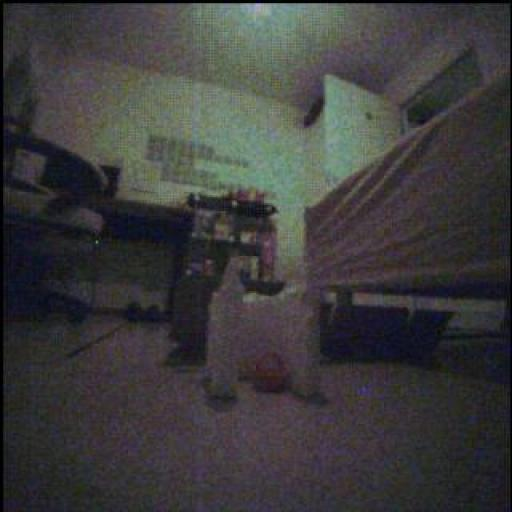basket: (254, 353, 289, 393)
